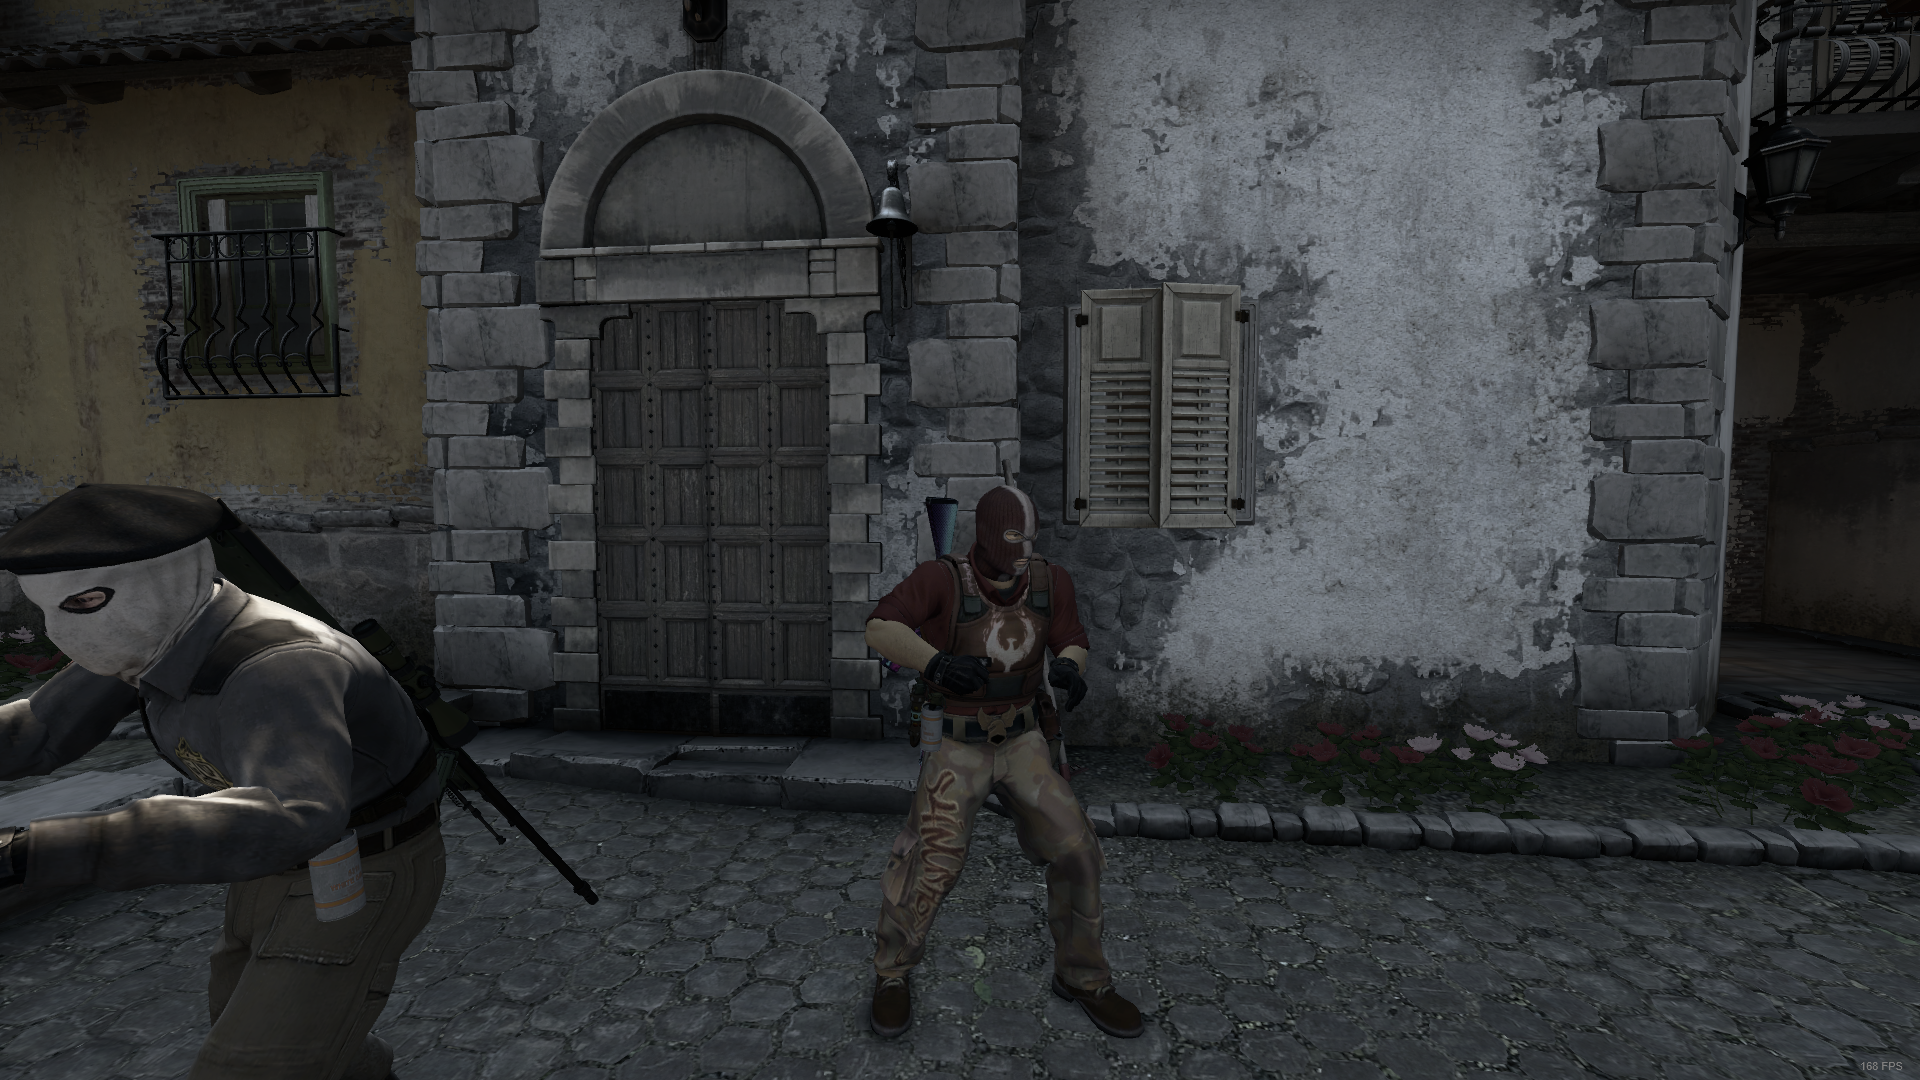t: (5, 479, 522, 1077)
